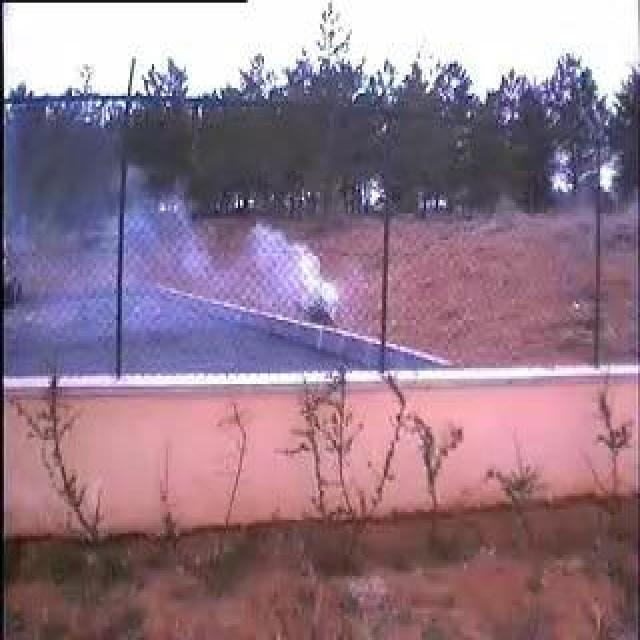Smoke: (53, 152, 347, 373)
